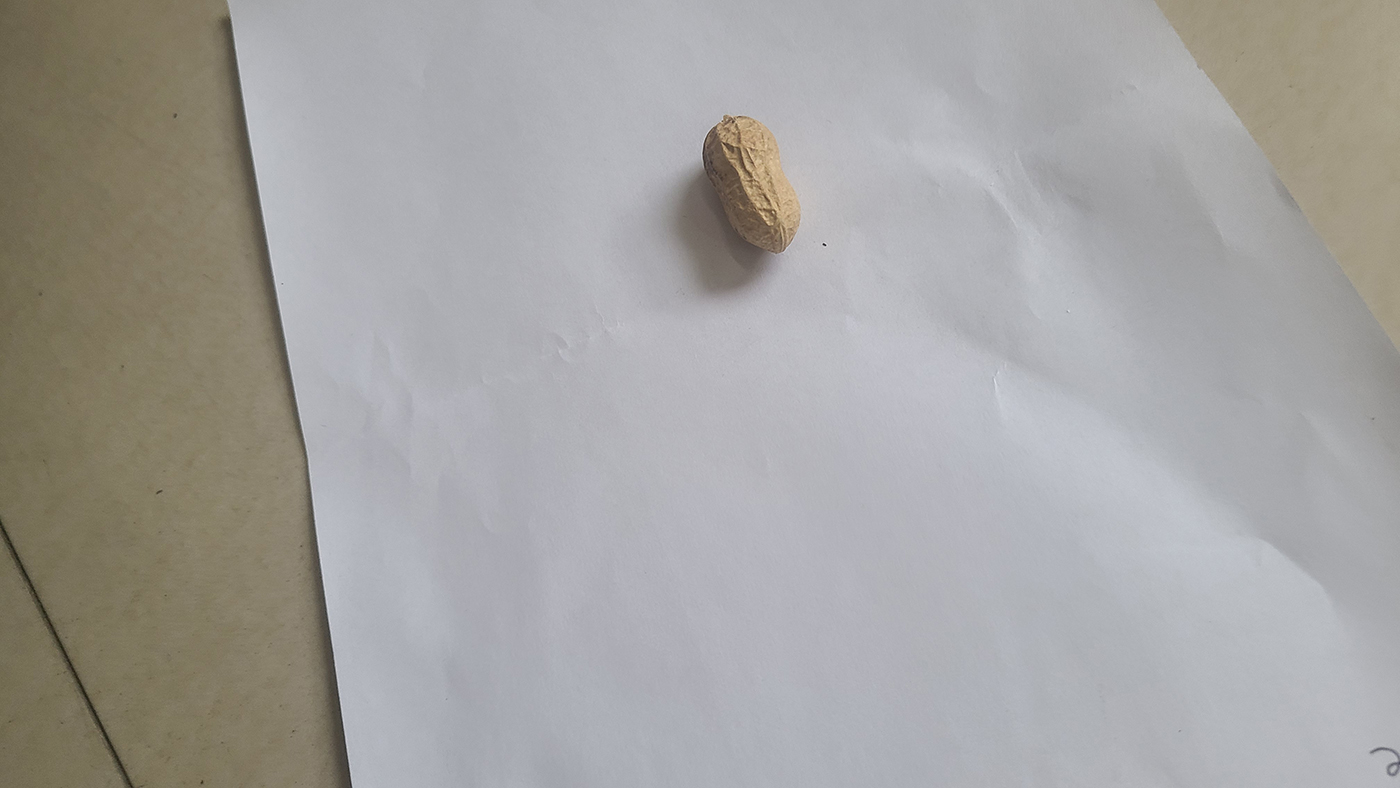h: (702, 116, 802, 255)
